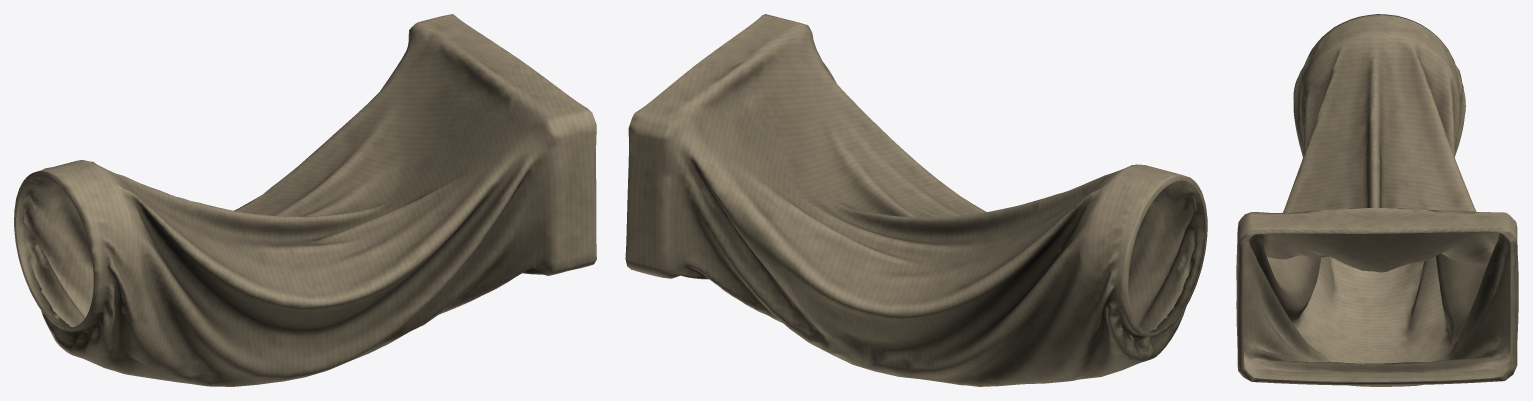
The model's file is SM_VentilatorCover.fbx.
The picture shows the model from 3 angles, left to right: view 1: azimuth 30°, elevation 25°; view 2: azimuth 150°, elevation 25°; view 3: azimuth 270°, elevation 25°; orthographic projection. The views are drawn at different scales.
Visible parts, largest first — view 1: SM_VentilatorCover_LOD0; view 2: SM_VentilatorCover_LOD0; view 3: SM_VentilatorCover_LOD0.
Boxes of the visible parts, <box> form: SM_VentilatorCover_LOD0: <box>14,14,596,386</box>; SM_VentilatorCover_LOD0: <box>625,14,1207,386</box>; SM_VentilatorCover_LOD0: <box>1236,14,1518,386</box>.
Bounding box in the file's own units: 123 × 66.58 × 62.77.
1 material, 1 textured.
